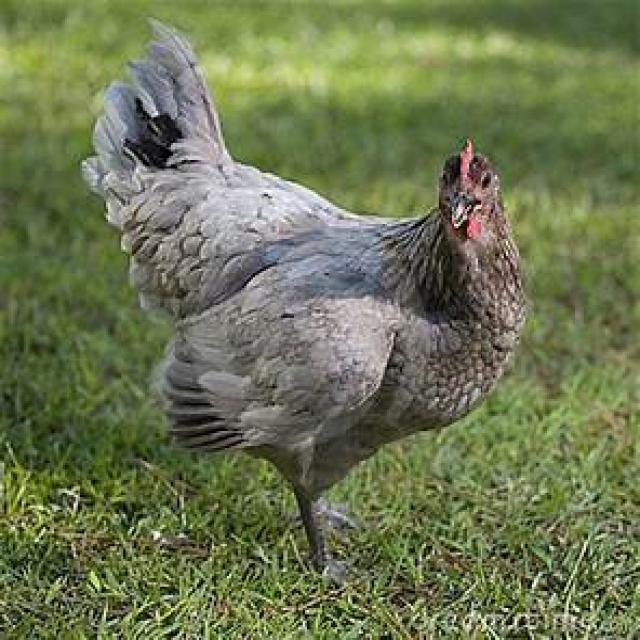animal: (78, 15, 527, 587)
